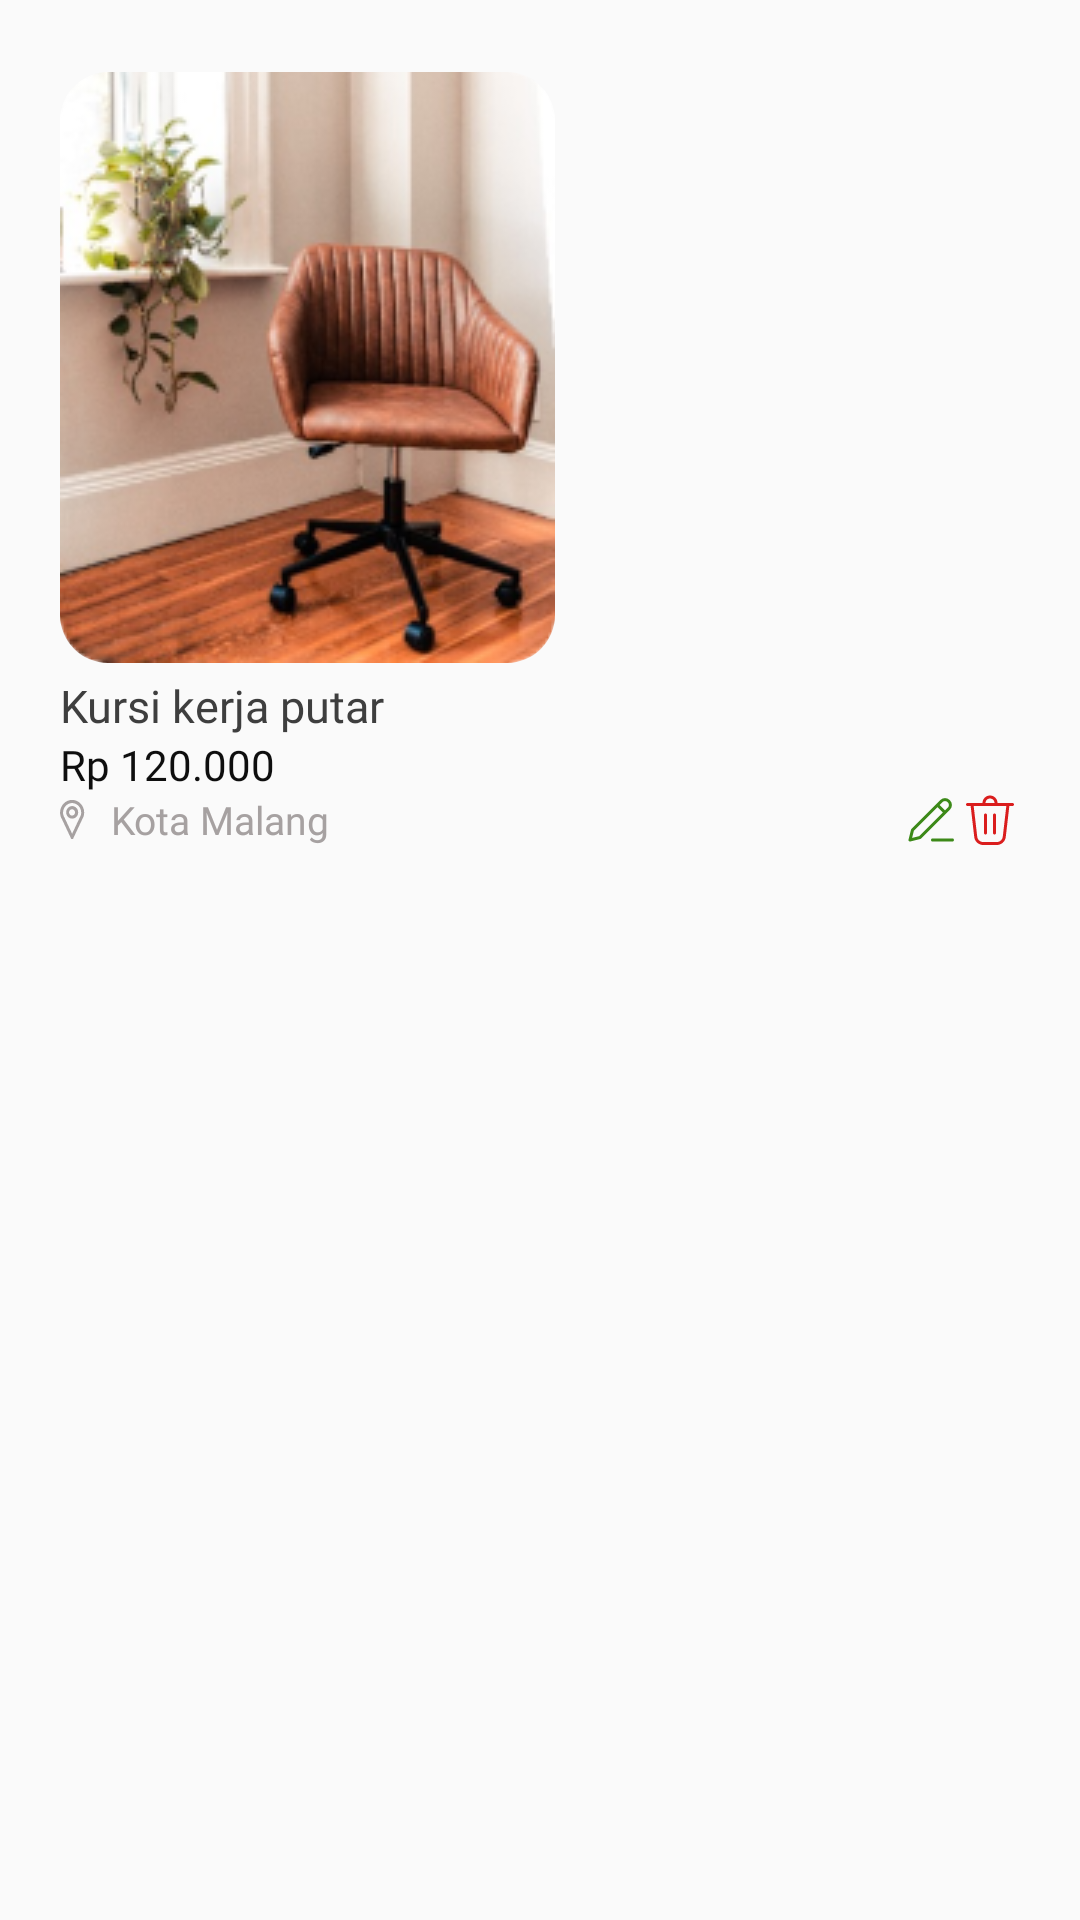

Named icons in this screenshot (1080px x 1920px) and their centers, (x=x, y=y):
delete: (x=990, y=820)
edit: (x=931, y=820)
location: (x=72, y=819)
